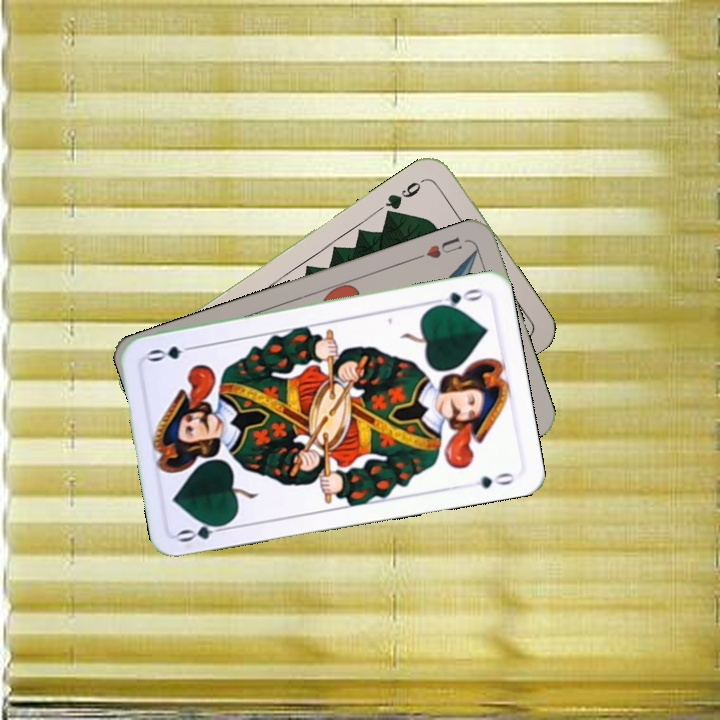G9: (381, 174, 430, 218)
GO: (174, 517, 234, 545), (427, 284, 486, 311)
HU: (412, 233, 465, 262)
